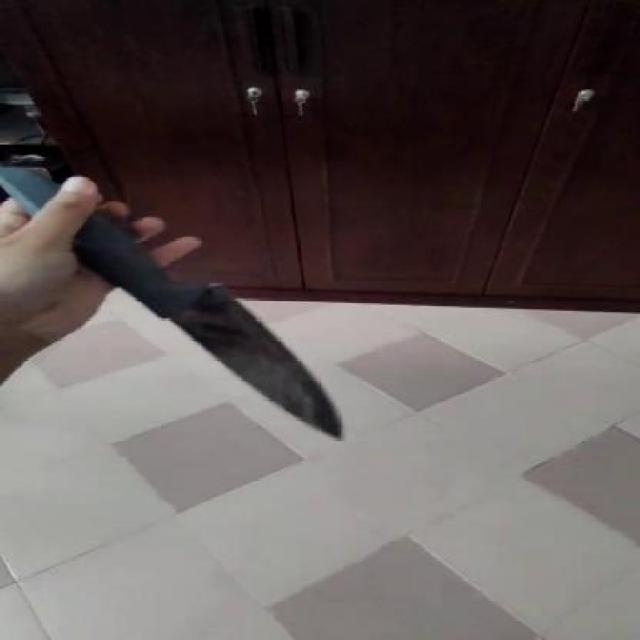knife: (118, 272, 391, 451)
